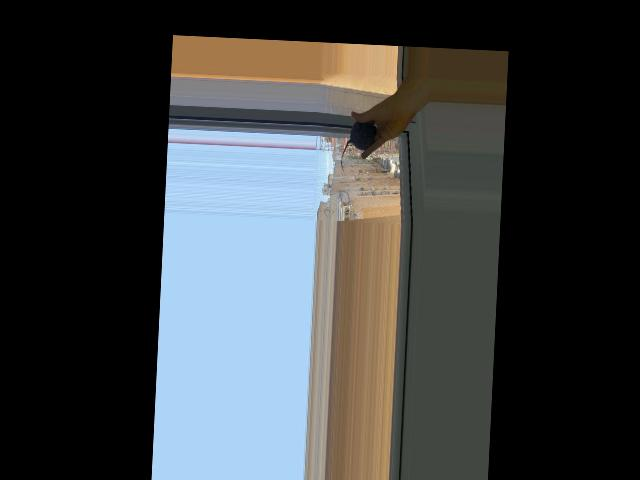beet: (340, 121, 377, 173)
